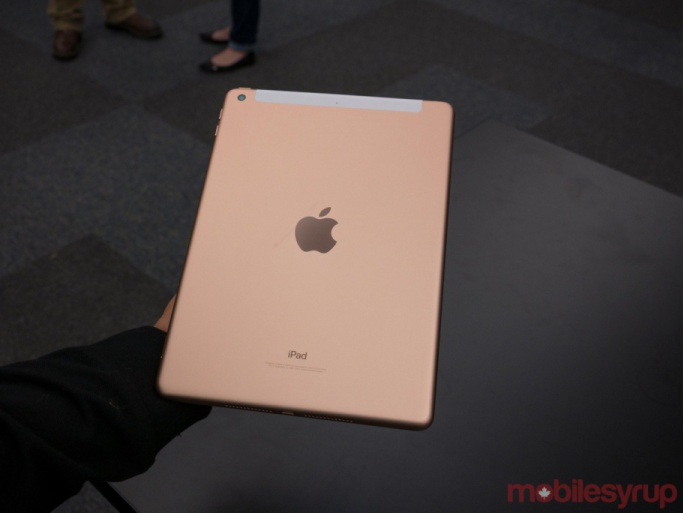apple: (276, 200, 357, 265)
